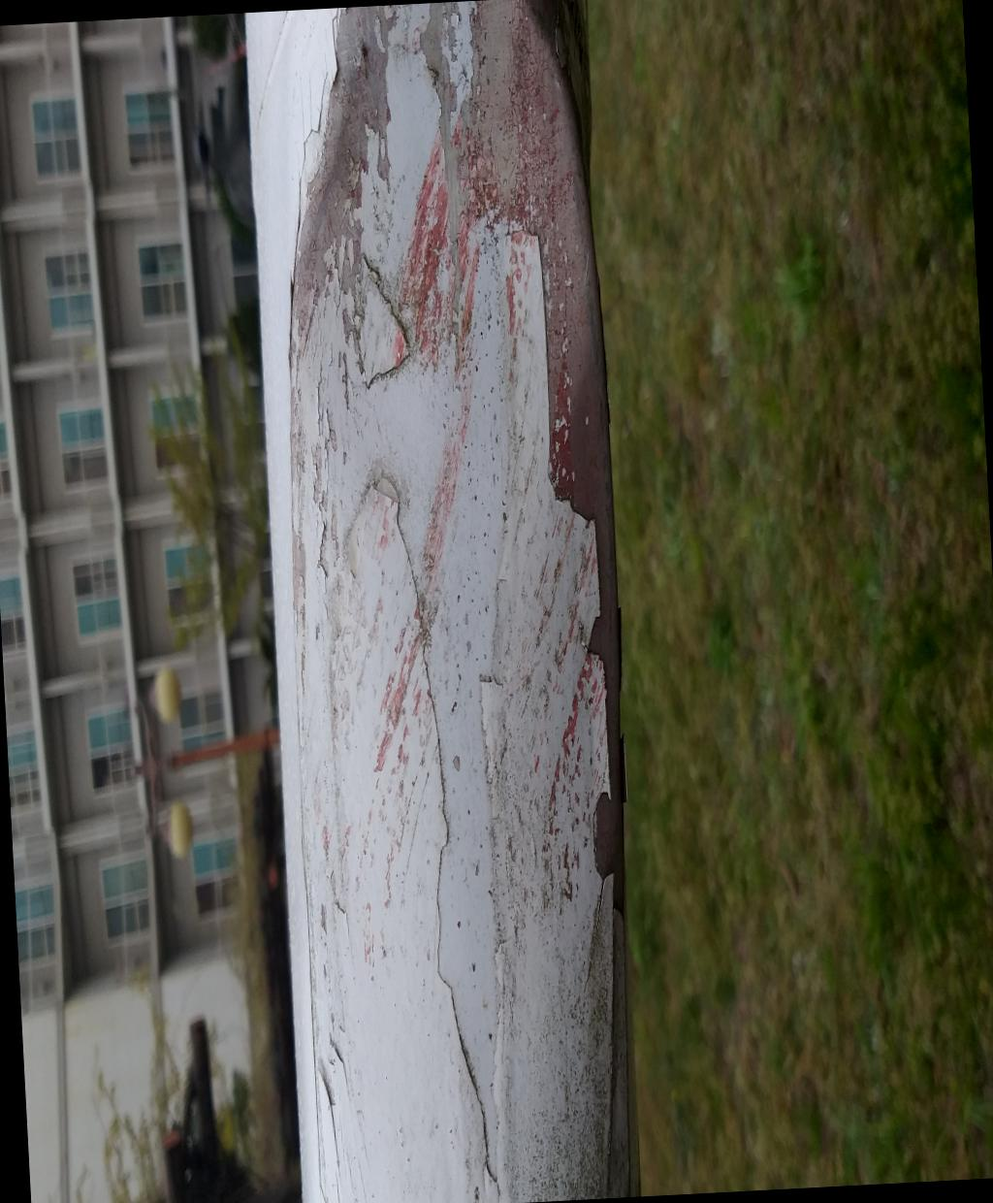corrosion: (208, 671, 608, 1203)
